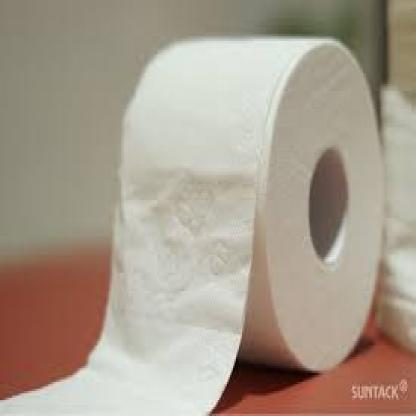tissue: (75, 3, 389, 384)
